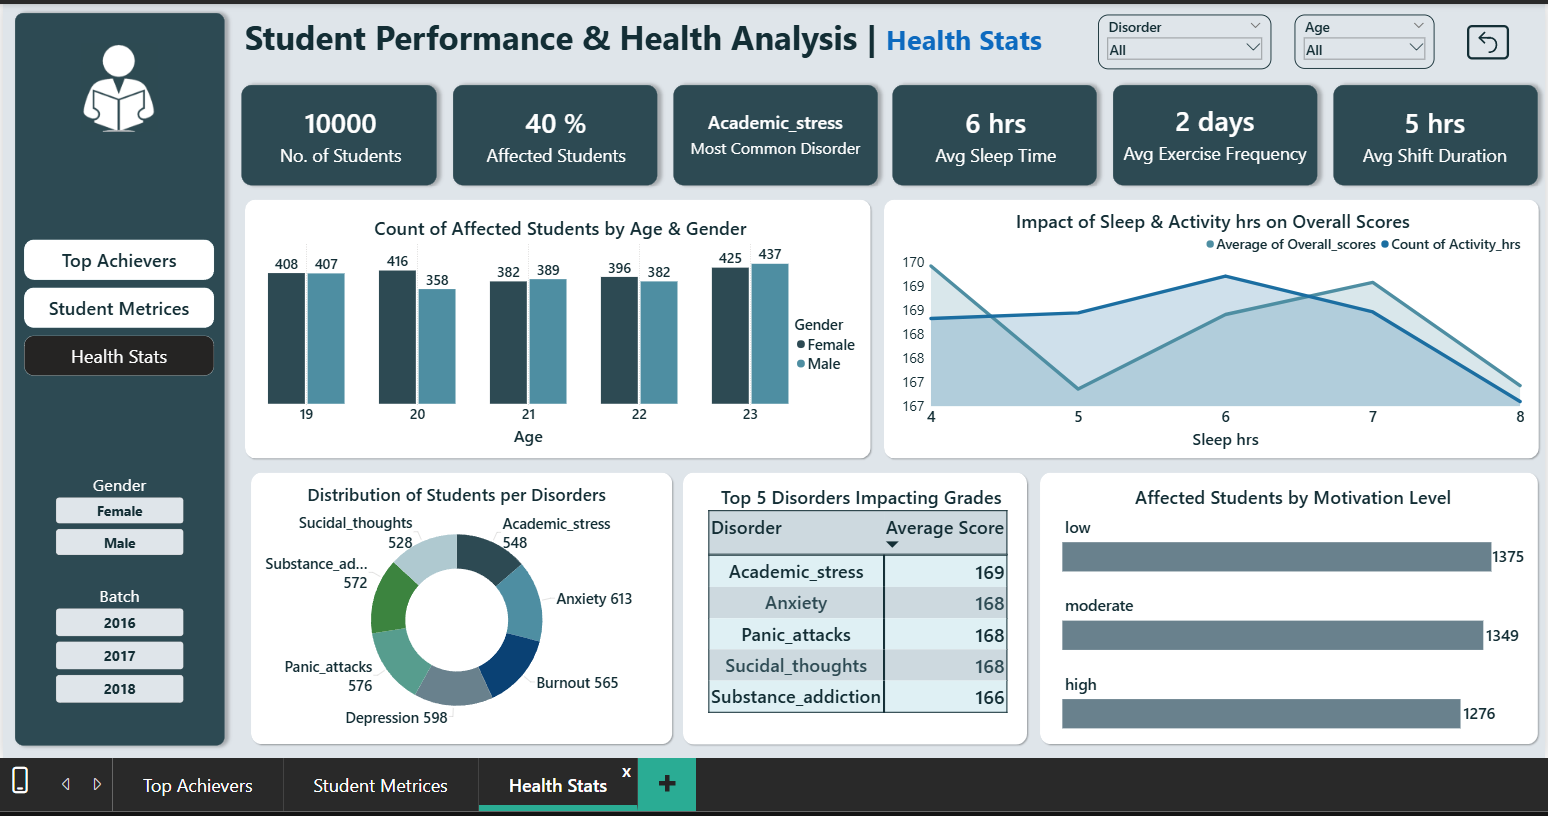

The dashboard page shown, as its layout file describes it:
{"tool":"powerbi","page":{"name":"Health Stats","canvas":[4500,2200],"ordinal":2},"visuals":[{"type":"shape","box":[702.7,1346.8,1267,830.4],"z":0},{"type":"shape","box":[34.8,28,611.3,2137.1],"z":1000},{"type":"image","box":[34.8,109.3,611.3,268.4],"z":2000},{"type":"textbox","title":"STUDENT PERFORMANCE & WELLNESS TRACKER","box":[699.4,27.8,2387,205.4],"z":3000},{"type":"shape","box":[697.4,234.2,569,292.8],"z":4000},{"type":"shape","box":[1312.3,234.2,596.2,292.8],"z":5000},{"type":"shape","box":[1954.4,234.2,596.2,292.8],"z":6000},{"type":"cardVisual","fields":{"Data":["Measure_table.No. of Students"]},"box":[734.6,266.2,500.4,228.9],"z":7000},{"type":"cardVisual","fields":{"Data":["Measure_table.Affected students %"]},"box":[1346.8,266.2,532.3,228.9],"z":8000},{"type":"cardVisual","fields":{"Data":["Measure_table.Average Attendance"]},"box":[2645.7,255.5,500.4,239.6],"z":9000},{"type":"advancedSlicerVisual","title":"Batch","fields":{"Values":["Date Table.Year"]},"box":[149.1,1692.8,383.3,351.3],"z":10000},{"type":"shape","box":[2549.9,553.6,1948.4,793.2],"z":11000},{"type":"shape","box":[686.7,553.6,1863.2,793.2],"z":12000},{"type":"advancedSlicerVisual","title":"Gender","fields":{"Values":["student_demographics.Gender"]},"box":[149.1,1368.1,383.3,244.9],"z":13000},{"type":"shape","box":[3007.7,1346.8,1490.5,830.4],"z":14000},{"type":"shape","box":[2596.5,234.2,596.2,292.8],"z":15000},{"type":"shape","box":[3238.6,234.2,596.2,292.8],"z":16000},{"type":"cardVisual","fields":{"Data":["Measure_table.Most Common Disorder"]},"box":[1969.6,250.2,569.6,260.8],"z":17000},{"type":"cardVisual","fields":{"Data":["Measure_table.Sleep Hrs"]},"box":[2651,266.2,489.8,228.9],"z":18000},{"type":"cardVisual","fields":{"Data":["Measure_table.Avg Exercise Frequency"]},"box":[3252.6,260.8,569.6,228.9],"z":19000},{"type":"shape","box":[3880.7,234.2,596.2,292.8],"z":20000},{"type":"cardVisual","fields":{"Data":["Measure_table.Avg Shift Duration"]},"box":[3928.7,266.2,495.1,228.9],"z":21000},{"type":"clusteredColumnChart","title":"Count of Affected Students by Age & Gender","fields":{"Y":["Measure_table.Disorder Count"],"Category":["student_demographics.Age"],"Series":["student_demographics.Gender"]},"box":[734.6,612.2,1767.4,681.4],"z":22000},{"type":"clusteredBarChart","title":"Affected Students by Motivation Level","fields":{"Y":["Measure_table.Labels Placeholder","Measure_table.Disorder Count"],"Category":["student_scores.Motivation_level"]},"box":[3087.6,1394.7,1357.5,734.6],"z":23000},{"type":"shape","box":[1965.2,1348,1041.7,831.6],"z":24000},{"type":"donutChart","title":"Distribution of Students per Disorders","fields":{"Series":["disorders.Disorder"],"Y":["Measure_table.Disorder Count"]},"box":[734.6,1394.7,1176.5,734.6],"z":25000},{"type":"lineChart","title":"Impact of Sleep & Activity hrs on Overall Scores","fields":{"Y":["Avg(student_scores.Overall_scores)"],"Category":["student_habits.Sleep_hrs"],"Y2":["CountNonNull(student_habits.Activity_hrs)"]},"box":[2619.1,596.2,1825.9,708],"z":26000},{"type":"pivotTable","title":"Top 5 Disorders Impacting Grades","fields":{"Values":["Measure_table.Average Score"],"Rows":["disorders.Disorder"]},"box":[2052.9,1395.2,903.6,737.5],"z":27000},{"type":"pageNavigator","box":[61.1,688.3,555.1,399.7],"z":28000},{"type":"slicer","fields":{"Values":["disorders.Disorder"]},"box":[3146,29.8,417.5,164],"z":29000},{"type":"slicer","fields":{"Values":["student_demographics.Age"]},"box":[3618.2,29.8,407.5,164],"z":30000},{"type":"actionButton","box":[4065.5,64.6,377.7,99.4],"z":30001}]}

Visuals, with their boxes on the page's 4500x2200 design canvas (x1, y1, x2, y2). These are canvas units, not pixel positions in the 1548x816 screenshot, which may show the page scaled, cropped or inside an application window:
shape: [x1=703, y1=1347, x2=1970, y2=2177]
shape: [x1=35, y1=28, x2=646, y2=2165]
image: [x1=35, y1=109, x2=646, y2=378]
"STUDENT PERFORMANCE & WELLNESS TRACKER" textbox: [x1=699, y1=28, x2=3086, y2=233]
shape: [x1=697, y1=234, x2=1266, y2=527]
shape: [x1=1312, y1=234, x2=1908, y2=527]
shape: [x1=1954, y1=234, x2=2551, y2=527]
cardVisual - Measure_table.No. of Students: [x1=735, y1=266, x2=1235, y2=495]
cardVisual - Measure_table.Affected students %: [x1=1347, y1=266, x2=1879, y2=495]
cardVisual - Measure_table.Average Attendance: [x1=2646, y1=256, x2=3146, y2=495]
"Batch" advancedSlicerVisual: [x1=149, y1=1693, x2=532, y2=2044]
shape: [x1=2550, y1=554, x2=4498, y2=1347]
shape: [x1=687, y1=554, x2=2550, y2=1347]
"Gender" advancedSlicerVisual: [x1=149, y1=1368, x2=532, y2=1613]
shape: [x1=3008, y1=1347, x2=4498, y2=2177]
shape: [x1=2596, y1=234, x2=3193, y2=527]
shape: [x1=3239, y1=234, x2=3835, y2=527]
cardVisual - Measure_table.Most Common Disorder: [x1=1970, y1=250, x2=2539, y2=511]
cardVisual - Measure_table.Sleep Hrs: [x1=2651, y1=266, x2=3141, y2=495]
cardVisual - Measure_table.Avg Exercise Frequency: [x1=3253, y1=261, x2=3822, y2=490]
shape: [x1=3881, y1=234, x2=4477, y2=527]
cardVisual - Measure_table.Avg Shift Duration: [x1=3929, y1=266, x2=4424, y2=495]
"Count of Affected Students by Age & Gender" clusteredColumnChart: [x1=735, y1=612, x2=2502, y2=1294]
"Affected Students by Motivation Level" clusteredBarChart: [x1=3088, y1=1395, x2=4445, y2=2129]
shape: [x1=1965, y1=1348, x2=3007, y2=2180]
"Distribution of Students per Disorders" donutChart: [x1=735, y1=1395, x2=1911, y2=2129]
"Impact of Sleep & Activity hrs on Overall Scores" lineChart: [x1=2619, y1=596, x2=4445, y2=1304]
"Top 5 Disorders Impacting Grades" pivotTable: [x1=2053, y1=1395, x2=2956, y2=2133]
pageNavigator: [x1=61, y1=688, x2=616, y2=1088]
slicer - disorders.Disorder: [x1=3146, y1=30, x2=3564, y2=194]
slicer - student_demographics.Age: [x1=3618, y1=30, x2=4026, y2=194]
actionButton: [x1=4066, y1=65, x2=4443, y2=164]
